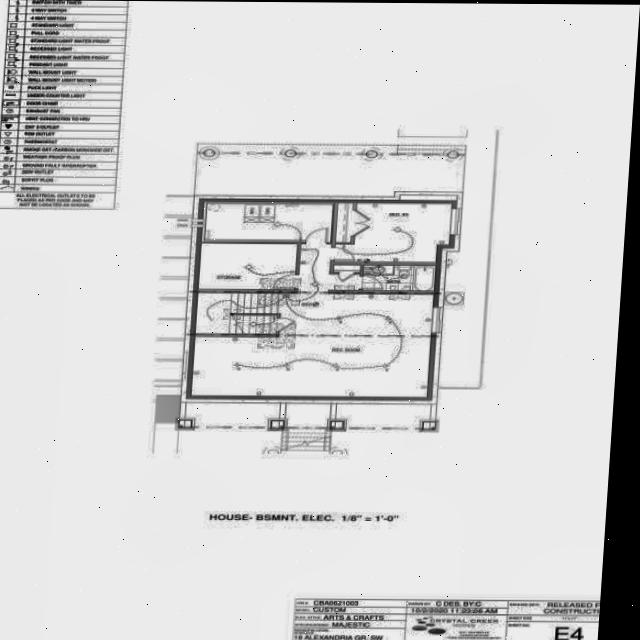room: (334, 203, 452, 263), (205, 203, 333, 241), (199, 244, 297, 290), (362, 265, 435, 291), (335, 202, 353, 243), (333, 265, 361, 272)
